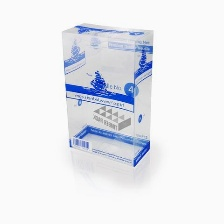plastic_box: (54, 12, 164, 175)
